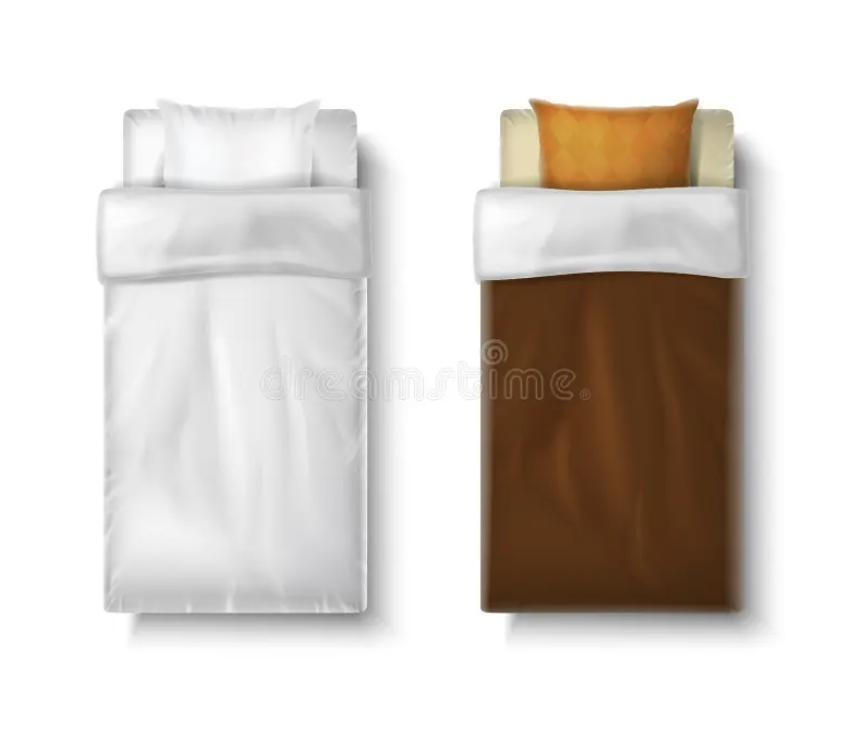Bed-Mattress: (466, 96, 761, 622), (97, 100, 380, 626)
